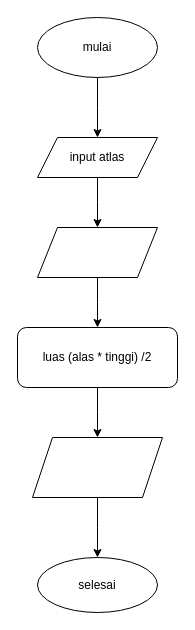
Some shapes in this 195 by 630 pixel diagram are drawn without their labels. Each missing label, with the centre of its shape:
"input tinggi" goes at (97,252).
"tampilkan luas" goes at (97,467).
